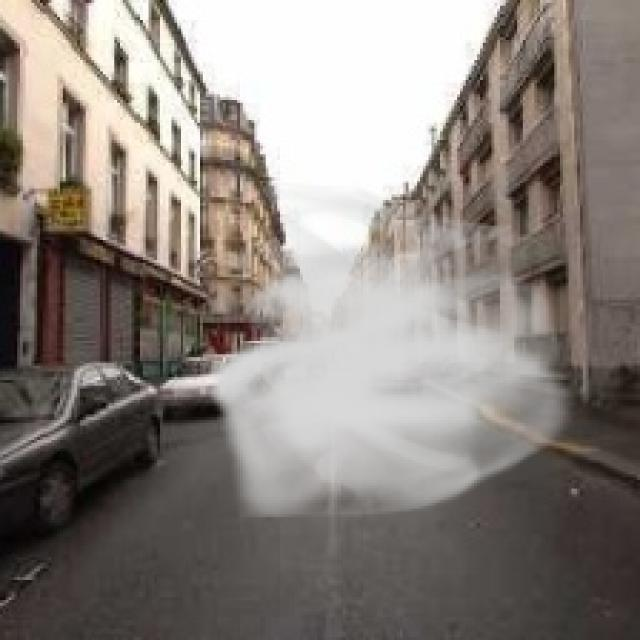Smoke: (205, 180, 586, 529)
